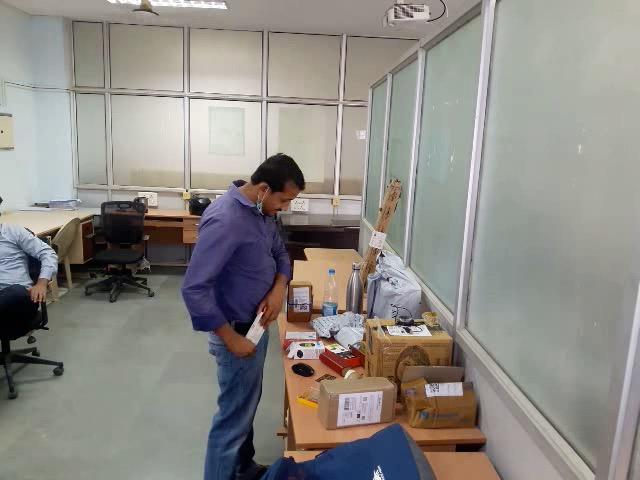shoplifting: (167, 286, 305, 401)
